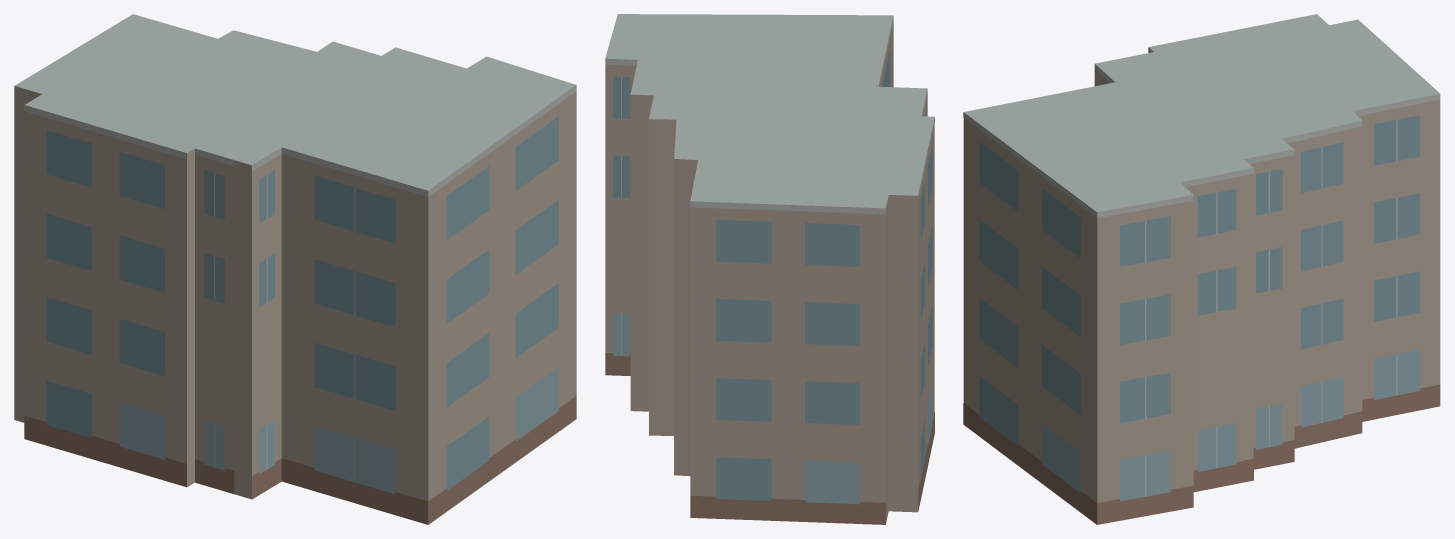
Rendered from survey-upis-32725043.glb.
The picture shows the model from 3 angles, left to right: view 1: azimuth 30°, elevation 25°; view 2: azimuth 150°, elevation 25°; view 3: azimuth 270°, elevation 25°; orthographic projection. The views are drawn at different scales.
Visible parts, largest first — view 1: survey-upis-32725043.tmp; view 2: survey-upis-32725043.tmp; view 3: survey-upis-32725043.tmp.
Boxes of the visible parts, <box> form: survey-upis-32725043.tmp: <box>14,14,576,524</box>; survey-upis-32725043.tmp: <box>605,14,934,524</box>; survey-upis-32725043.tmp: <box>963,14,1440,524</box>.
Size of the model in its own units: 17.7 by 13 by 17.99.
